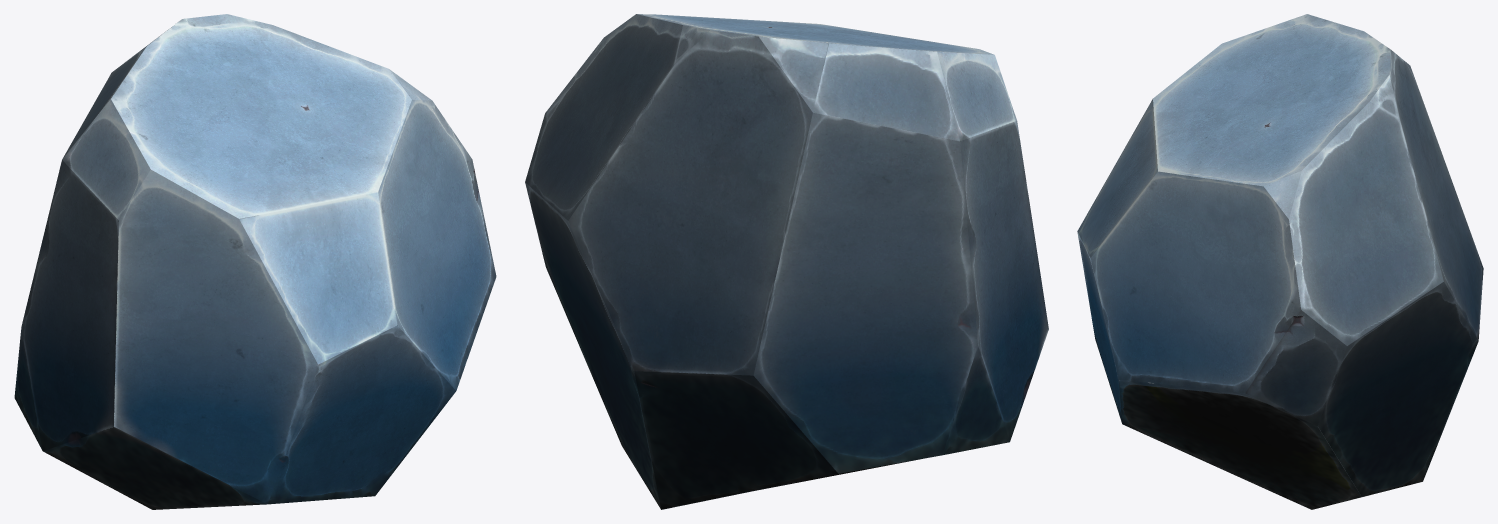
The model's file is S_rocks_04.glb.
3 renders of one model, left to right at view 1: azimuth 30°, elevation 25°; view 2: azimuth 150°, elevation 25°; view 3: azimuth 270°, elevation 25°, orthographic. The views are drawn at different scales.
Visible parts, largest first — view 1: S_Rock_04; view 2: S_Rock_04; view 3: S_Rock_04.
Boxes of the visible parts, x1,y1,x2,y2 form: S_Rock_04: (14,14,496,509); S_Rock_04: (525,14,1048,509); S_Rock_04: (1077,14,1483,509).
Bounding box in the file's own units: 1.15 × 1.2 × 1.03.
1 material, 1 textured.
